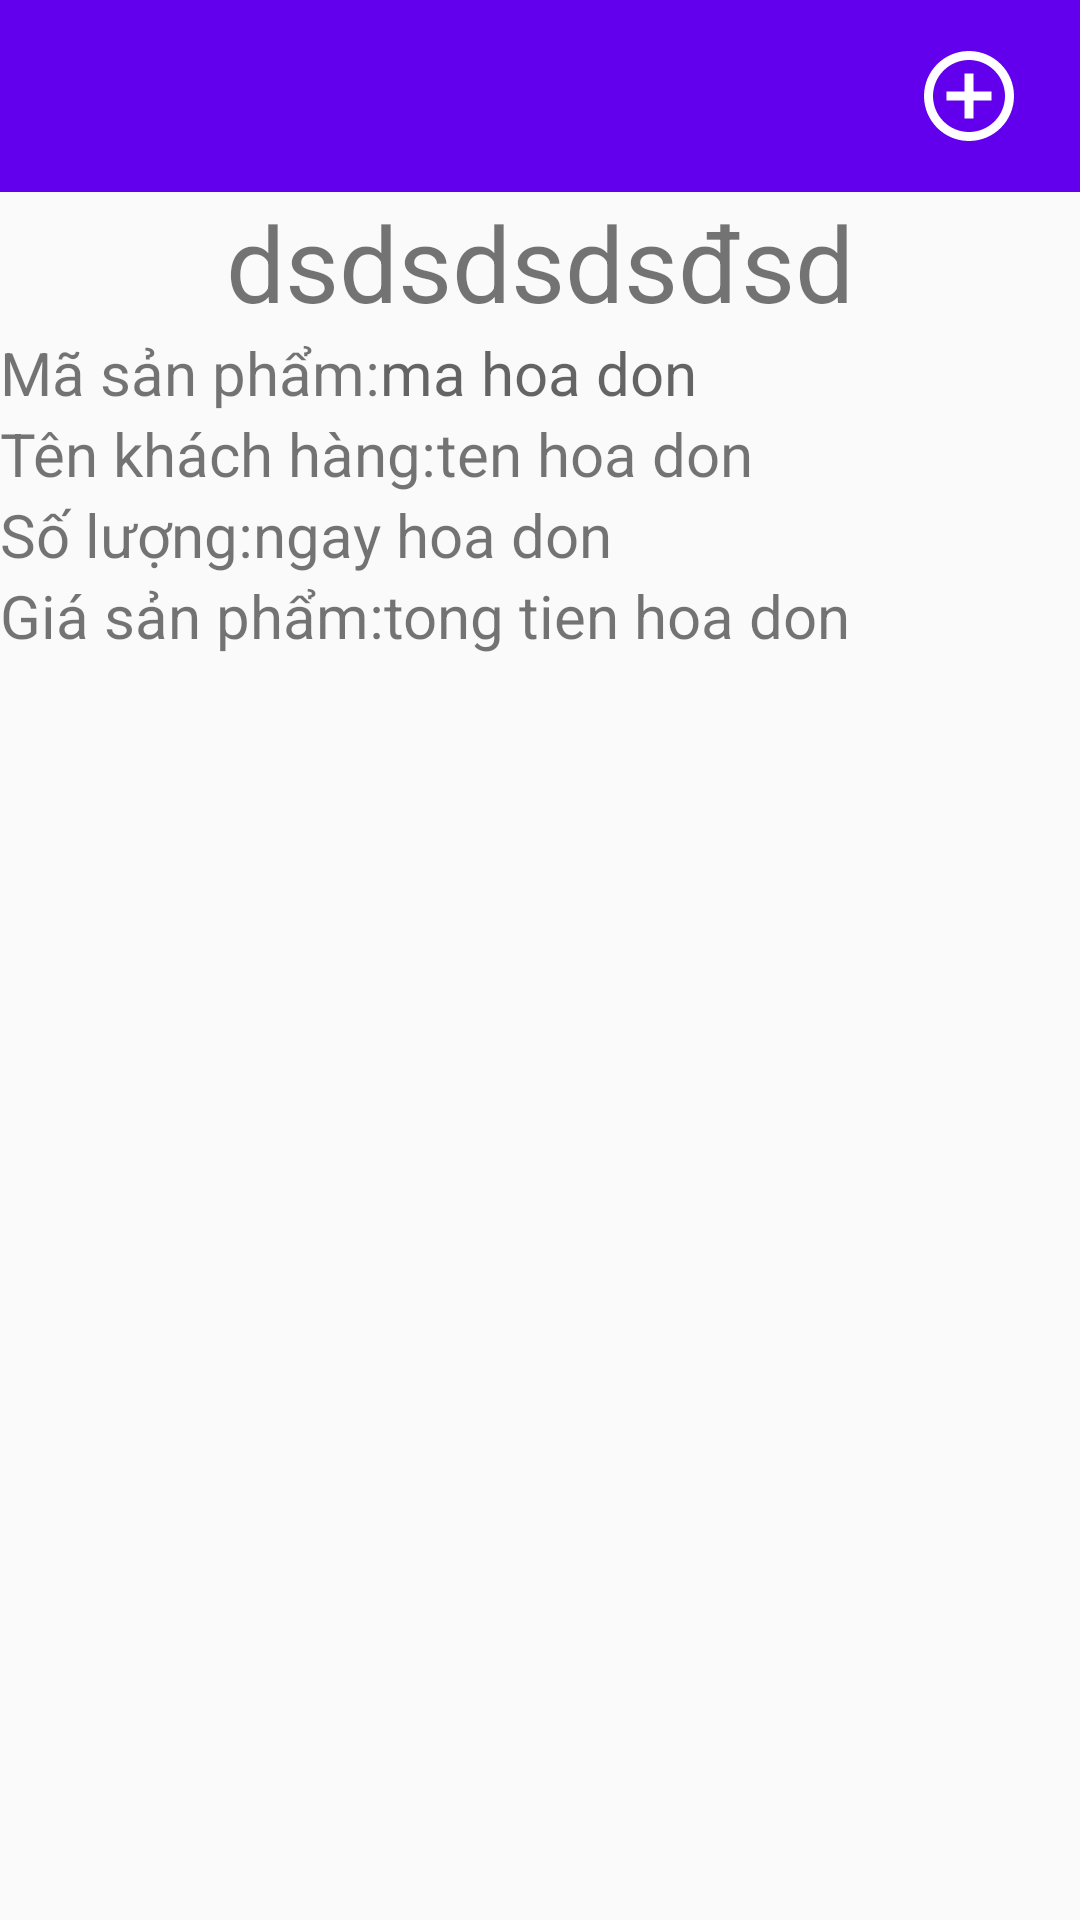

Locate icon controls on the screen. Image size 1080px x 1920px, boxes as (x1, y1, x2, y2).
add circle: (924, 51, 1014, 141)
